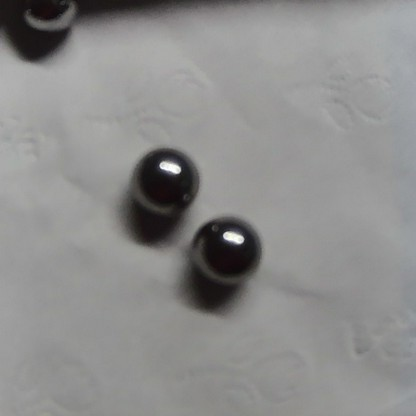ironball: (182, 209, 263, 293), (111, 136, 198, 210)
